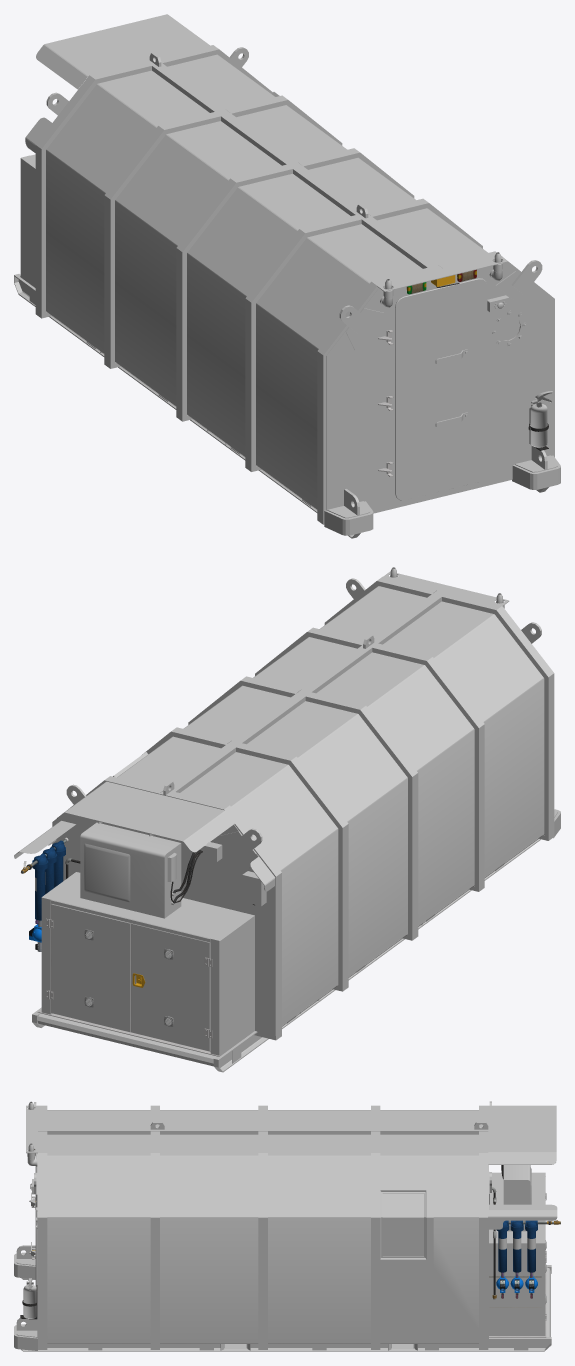
File: HRM_12AL_v2.FBX
The picture shows the model from 3 angles, top to bottom: view 1: azimuth 30°, elevation 25°; view 2: azimuth 150°, elevation 25°; view 3: azimuth 270°, elevation 25°; orthographic projection. The views are drawn at different scales.
Parts seen in each view (by area): view 1: Refuge, Refuge_FrontDoor_Edit normalsFix, FireExtinguisher_Body; view 2: Refuge; view 3: Refuge, FireExtinguisher_Body.
Boxes of the visible parts, x1,y1,x2,y2 form: Refuge: (14, 14, 560, 538); Refuge_FrontDoor_Edit normalsFix: (395, 278, 487, 500); FireExtinguisher_Body: (530, 391, 553, 447); Refuge: (14, 567, 560, 1072); Refuge: (14, 1101, 560, 1351); FireExtinguisher_Body: (23, 1278, 36, 1318).
Size of the model in its own units: 2.14 by 2.17 by 5.6.
